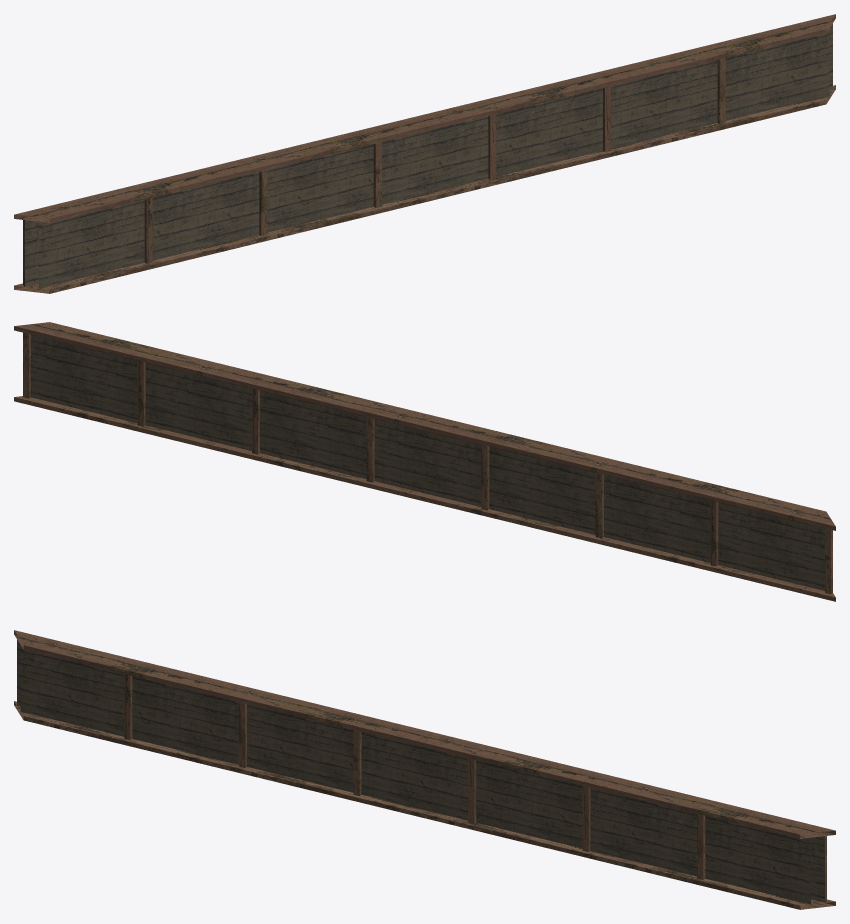
Rendered from Prop_Balcony_Long.fbx.
The picture shows the model from 3 angles, top to bottom: view 1: azimuth 30°, elevation 25°; view 2: azimuth 150°, elevation 25°; view 3: azimuth 330°, elevation 25°; orthographic projection.
Parts seen in each view (by area): view 1: Prop_Balcony_Long; view 2: Prop_Balcony_Long; view 3: Prop_Balcony_Long.
Boxes of the visible parts, x1=… form: Prop_Balcony_Long: x1=14, y1=14, x2=835, y2=293; Prop_Balcony_Long: x1=14, y1=322, x2=835, y2=601; Prop_Balcony_Long: x1=14, y1=630, x2=835, y2=909.
Size of the model in its own units: 462 by 40.41 by 12.77.
